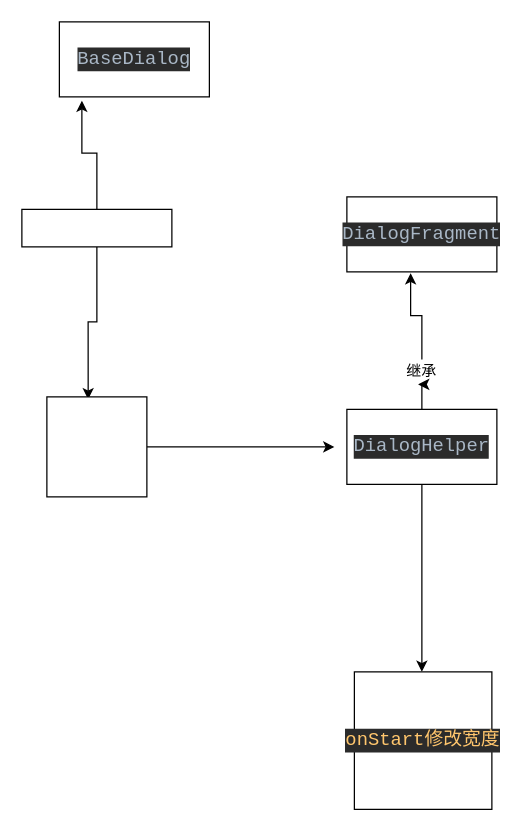
The diagram is 523 pixels wide and 831 high, and some of its shapes have lost their labels. The shapes that lost their labels are listed below. From the top down, each one's centre as x and y in pixels, then its label:
the point at 96,227: CustomDialog
the point at 96,446: show()
